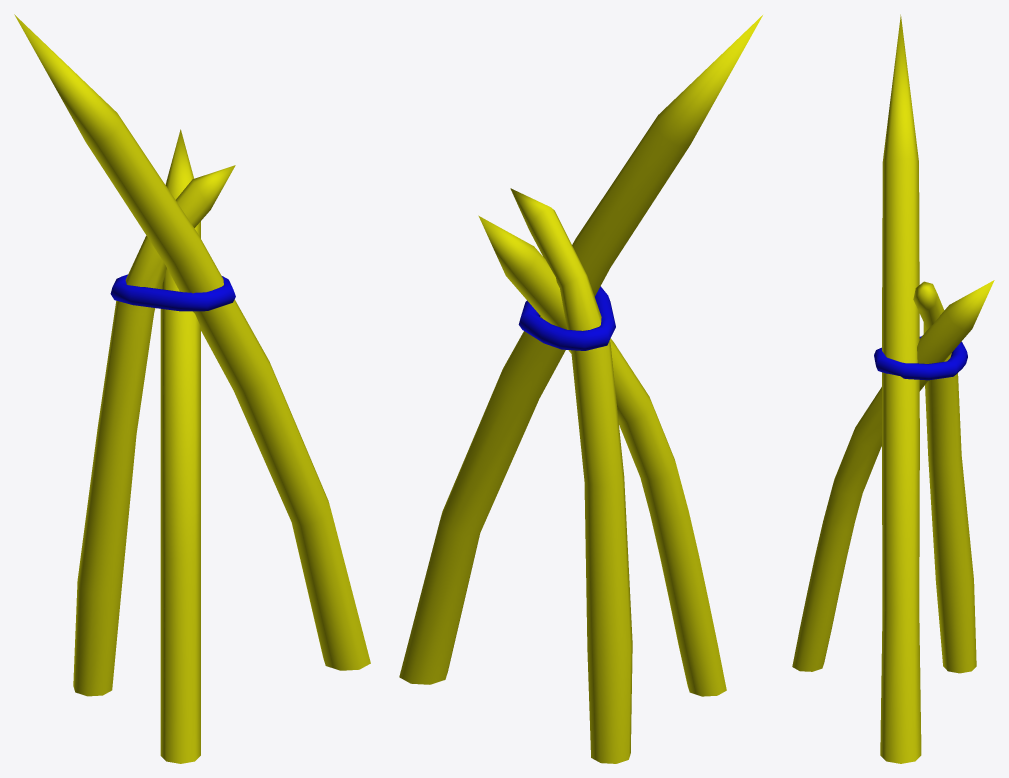
File: prp_TorchA.fbx
3 views of the same model, side by side, from view 1: azimuth 30°, elevation 25°; view 2: azimuth 150°, elevation 25°; view 3: azimuth 270°, elevation 25° (orthographic). The views are drawn at different scales.
Parts seen in each view (by area): view 1: prp_TorchA; view 2: prp_TorchA; view 3: prp_TorchA.
Part boxes in pixels (box(x1,y1,x2,y2)): prp_TorchA: box(14, 14, 370, 763); prp_TorchA: box(399, 15, 762, 763); prp_TorchA: box(792, 14, 994, 763).
Size of the model in its own units: 0.9444 by 0.5614 by 1.85.
